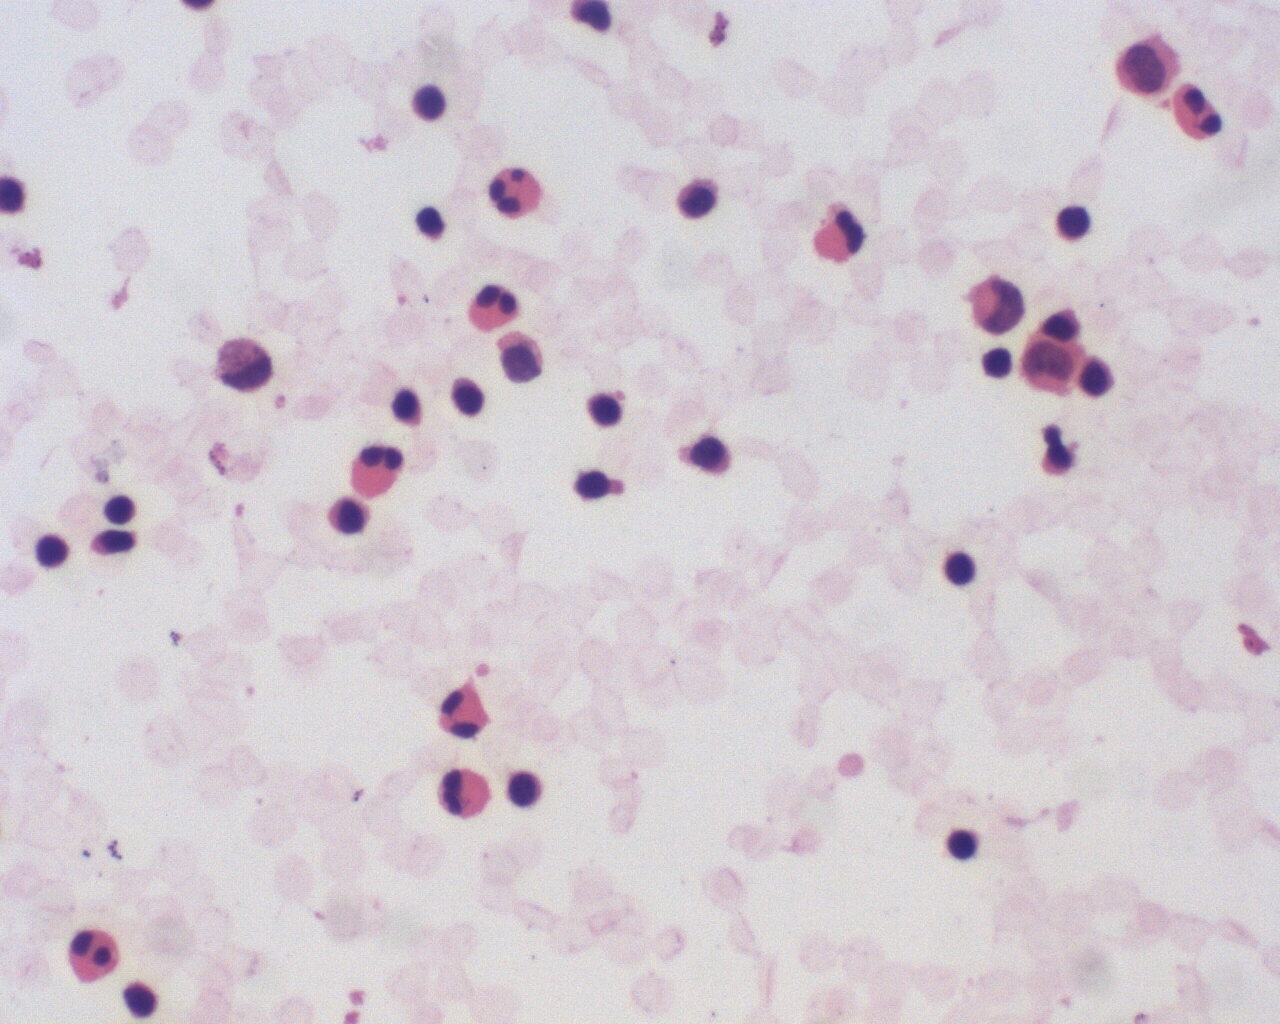lymph: (408, 77, 451, 129), (583, 386, 627, 430), (504, 770, 546, 816), (939, 825, 986, 866), (389, 382, 428, 430), (938, 545, 982, 588), (412, 202, 453, 247), (29, 530, 72, 572), (100, 492, 142, 529), (978, 340, 1013, 380)
neutro: (487, 165, 545, 222)
